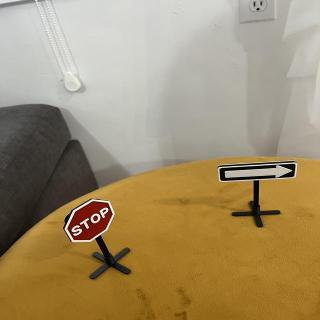sign_oneway_right: (217, 162, 299, 185)
sign_stop: (64, 198, 117, 245)
